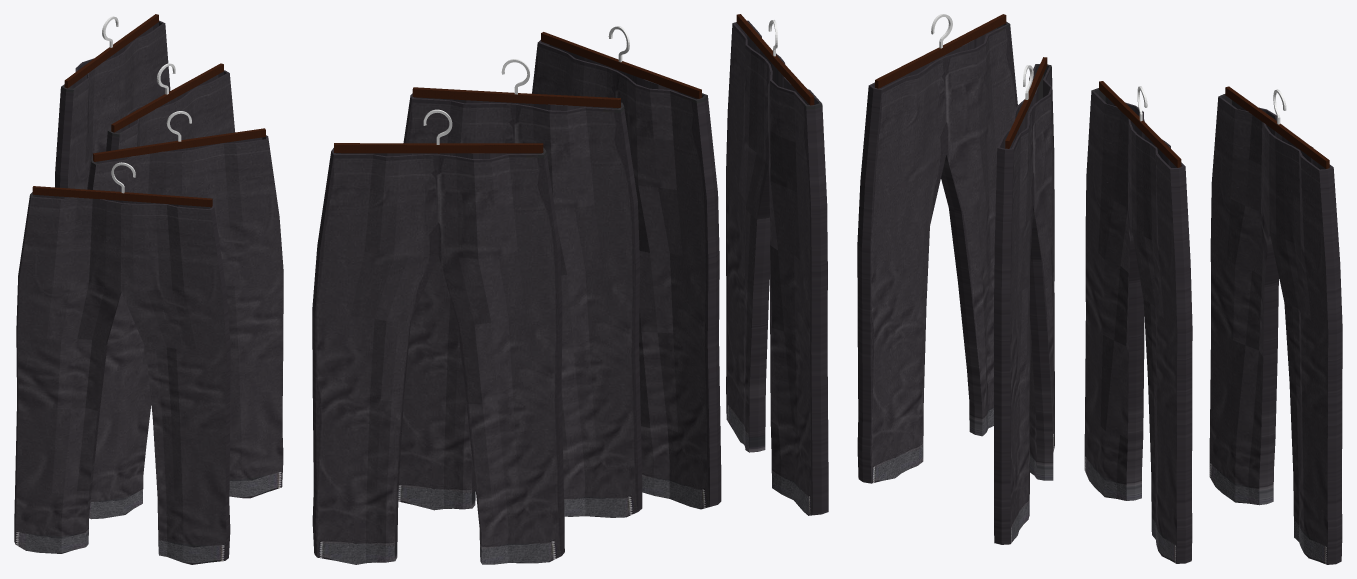
File: inariblck2.glb
3 renders of one model, left to right at view 1: azimuth 30°, elevation 25°; view 2: azimuth 150°, elevation 25°; view 3: azimuth 270°, elevation 25°, orthographic. The views are drawn at different scales.
Visible parts, largest first — view 1: Plane.313; view 2: Plane.313; view 3: Plane.313.
Boxes of the visible parts, <box> form: Plane.313: <box>14,14,283,564</box>; Plane.313: <box>312,14,828,564</box>; Plane.313: <box>857,14,1342,564</box>.
Size of the model in its own units: 0.3783 by 0.4706 by 0.4744.
Materials: 3 (3 with a texture image).
